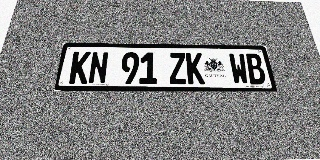1: (139, 52, 157, 84)
9: (121, 52, 139, 84)
B: (244, 54, 267, 84)
K: (68, 51, 91, 84), (186, 53, 205, 84)
N: (88, 52, 109, 84)
W: (228, 53, 250, 84)
Z: (169, 53, 187, 84)
